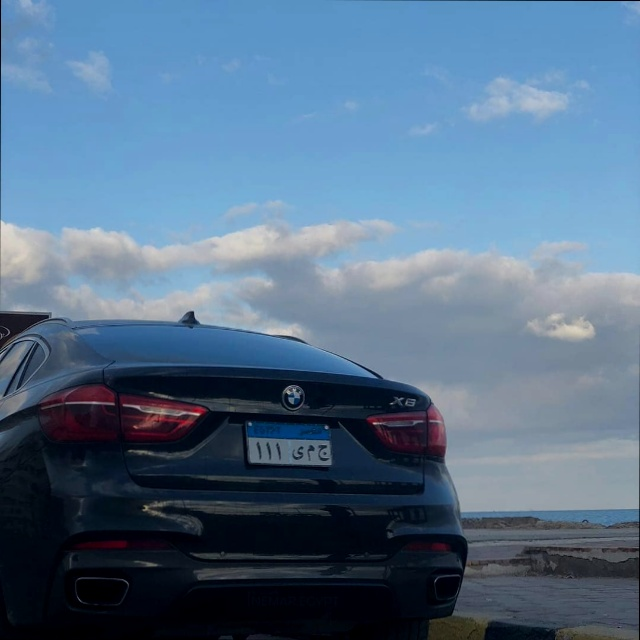License Plate: (242, 417, 335, 469)
